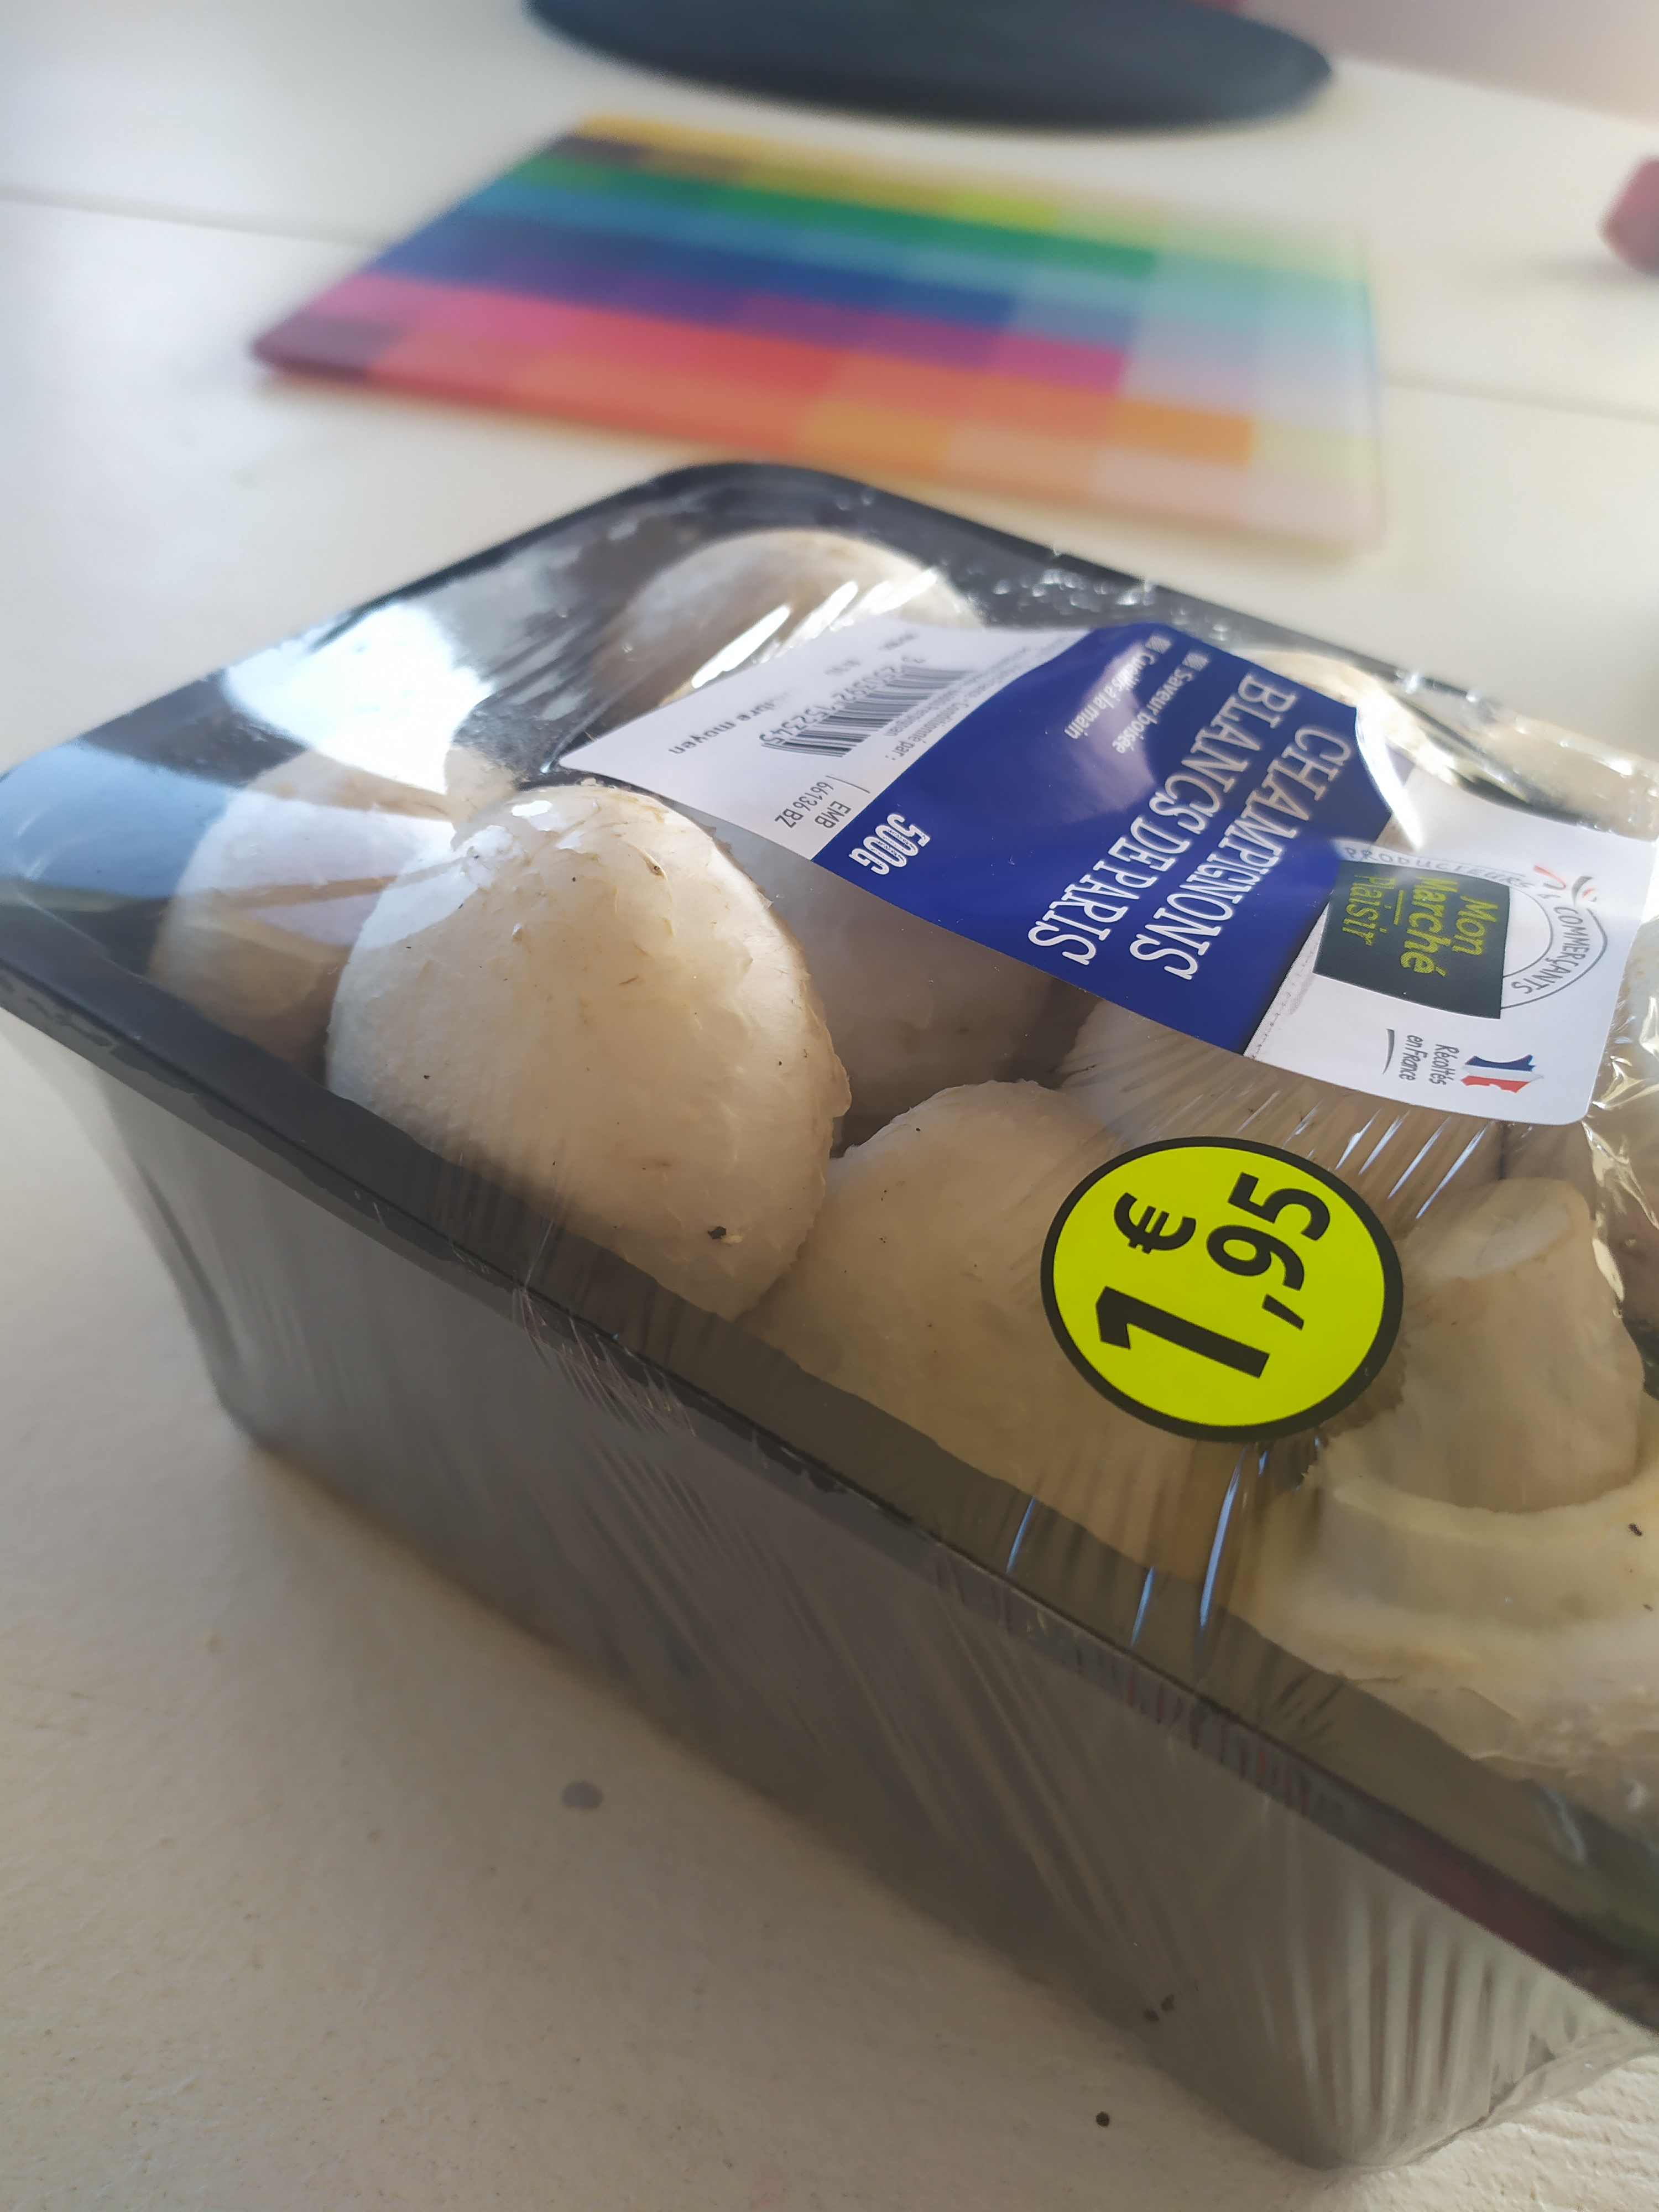mushroom: (0, 451, 1656, 2161)
